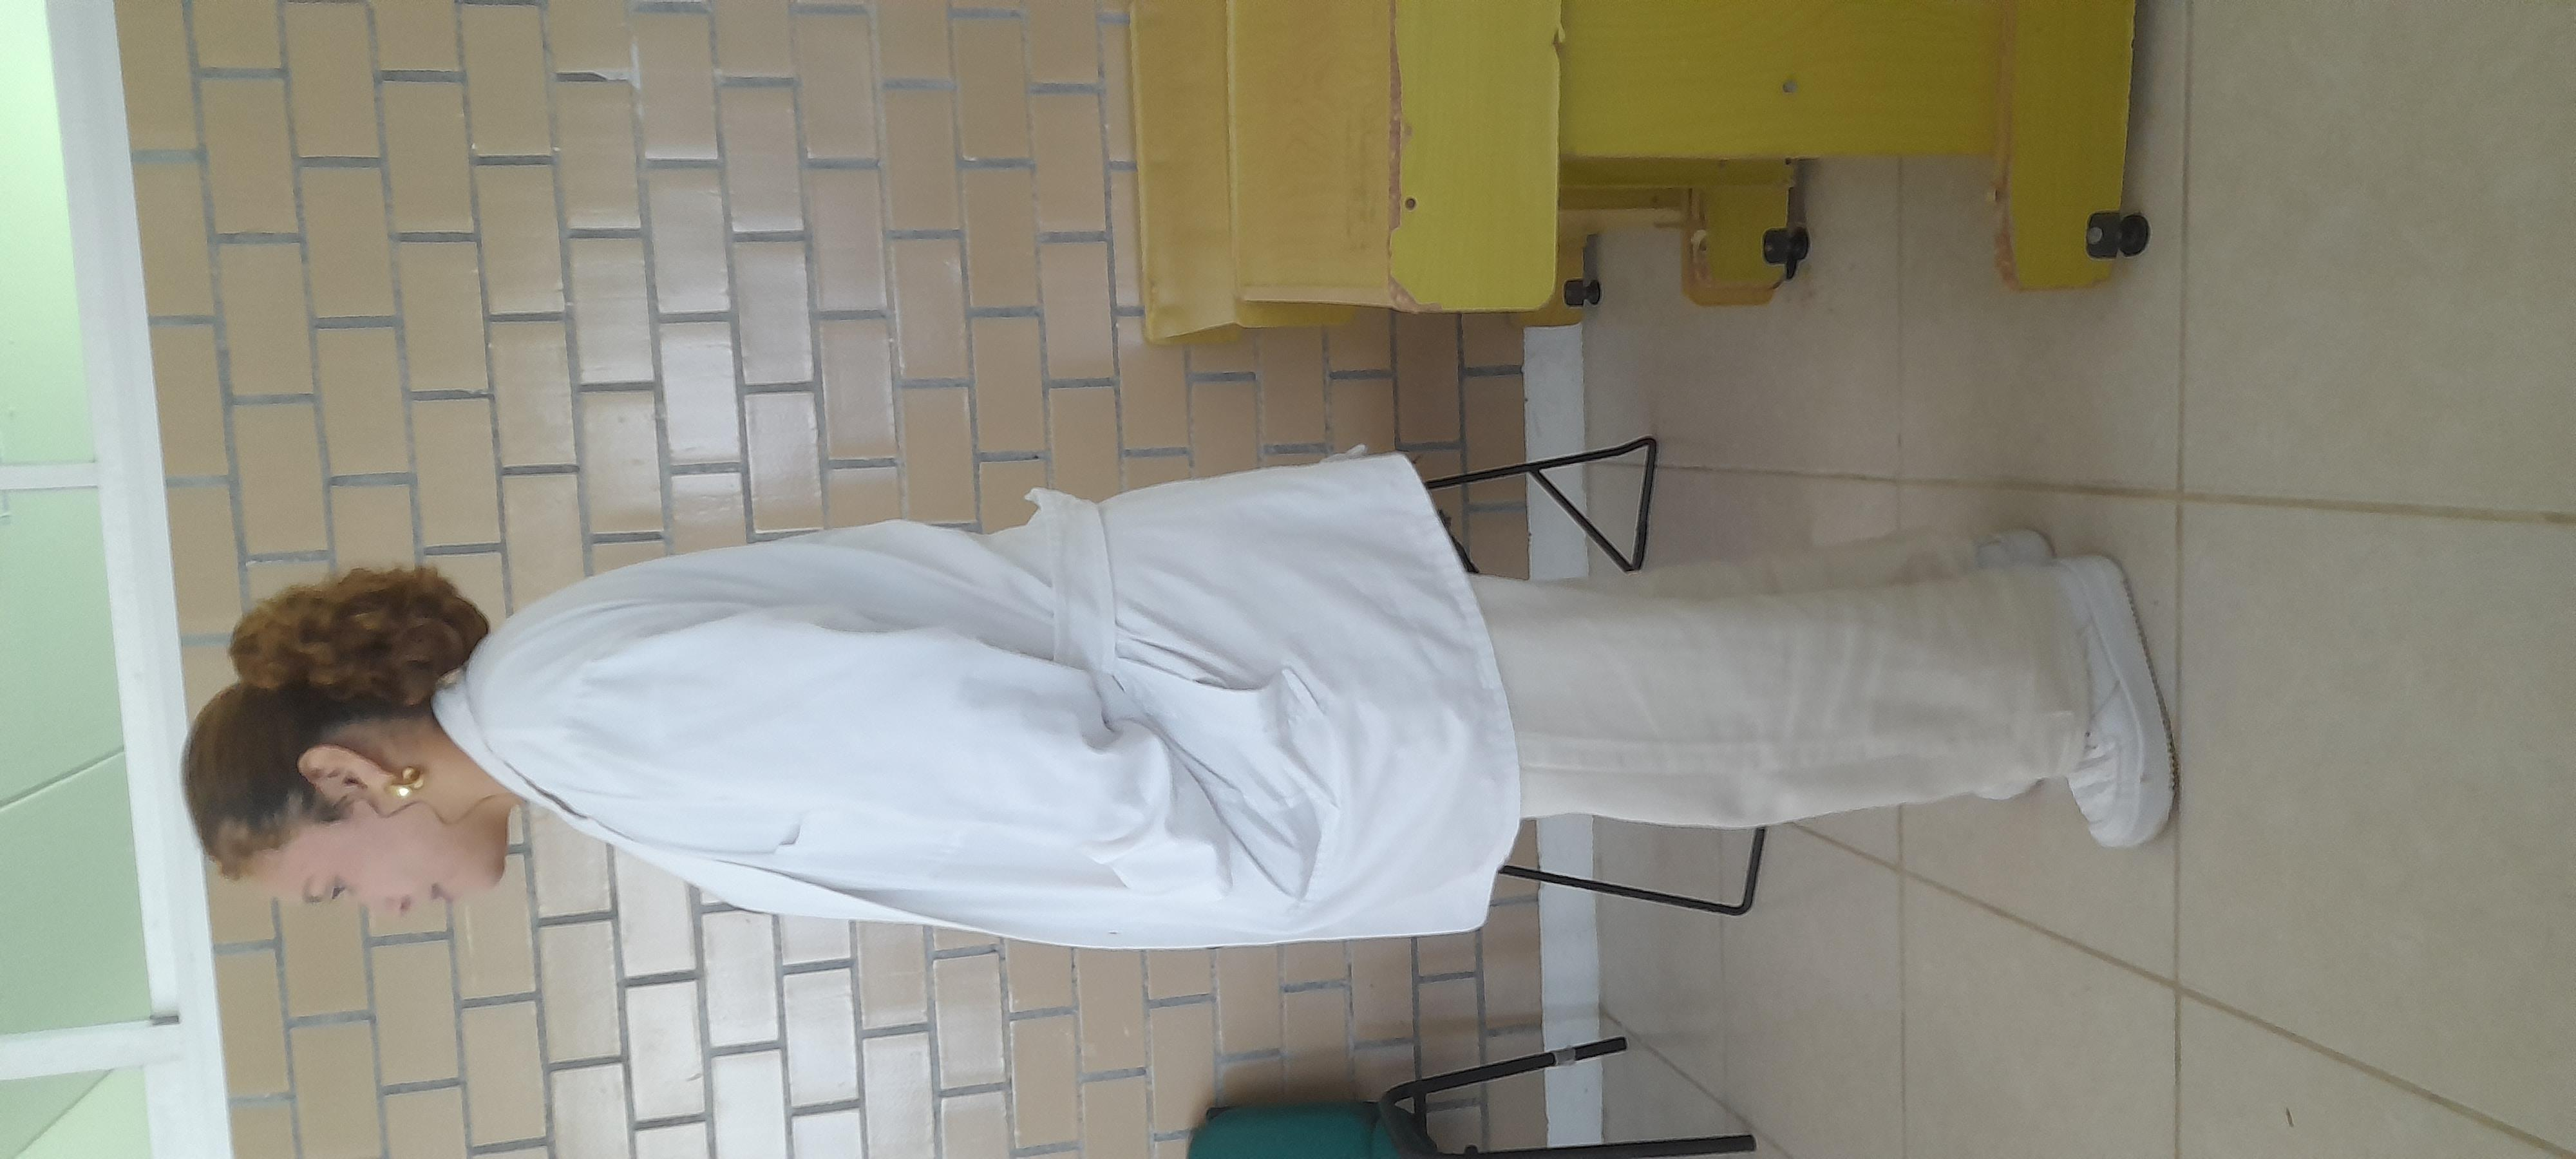Bata-Correcta: (386, 69, 1860, 1015)
